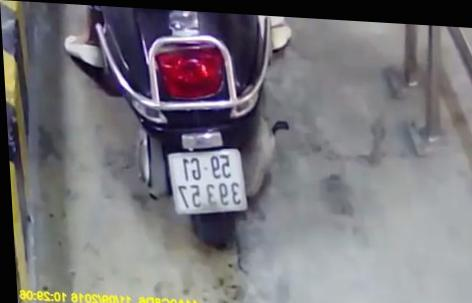License_Plate: (161, 137, 254, 223)
